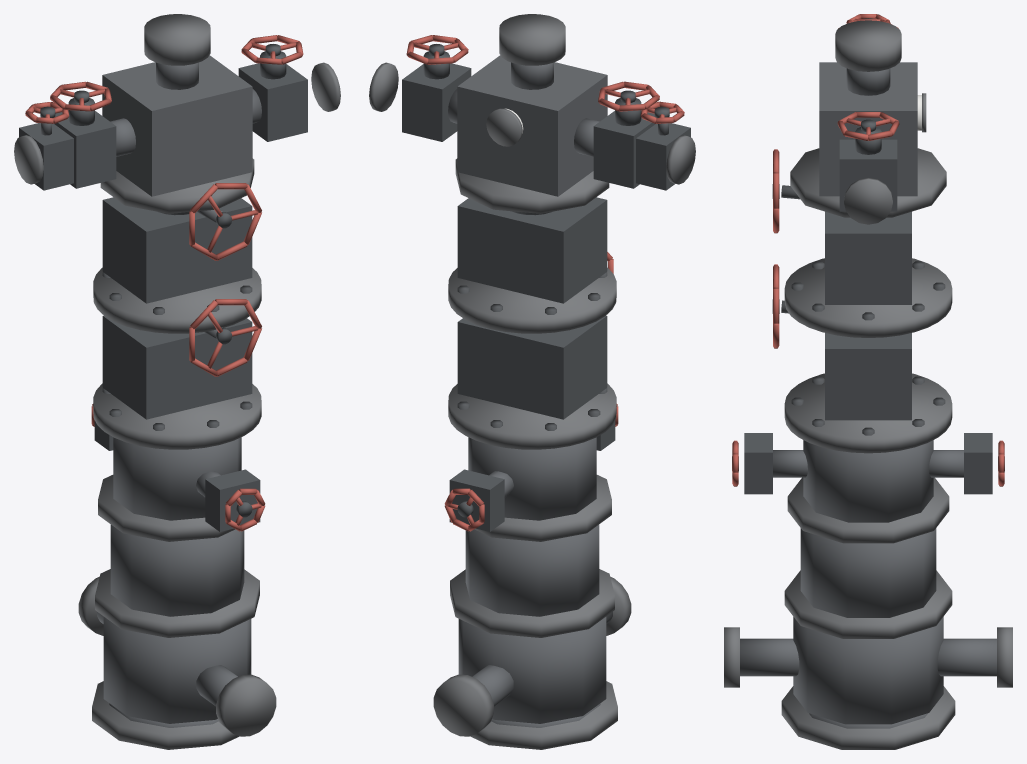
Rendered from christmas_tree_lod2.glb.
The picture shows the model from 3 angles, left to right: view 1: azimuth 30°, elevation 25°; view 2: azimuth 150°, elevation 25°; view 3: azimuth 270°, elevation 25°; orthographic projection.
Parts seen in each view (by area): view 1: ct_static, ct_wheel; view 2: ct_static, ct_wheel; view 3: ct_static, ct_wheel.
Part boxes in pixels (box(x1,y1,x2,y2)): ct_static: box(14, 14, 340, 749); ct_wheel: box(25, 35, 303, 531); ct_static: box(369, 14, 695, 749); ct_wheel: box(406, 35, 684, 531); ct_static: box(724, 20, 1012, 749); ct_wheel: box(732, 14, 1004, 486).
Size of the model in its own units: 1.2 by 2.6 by 1.
